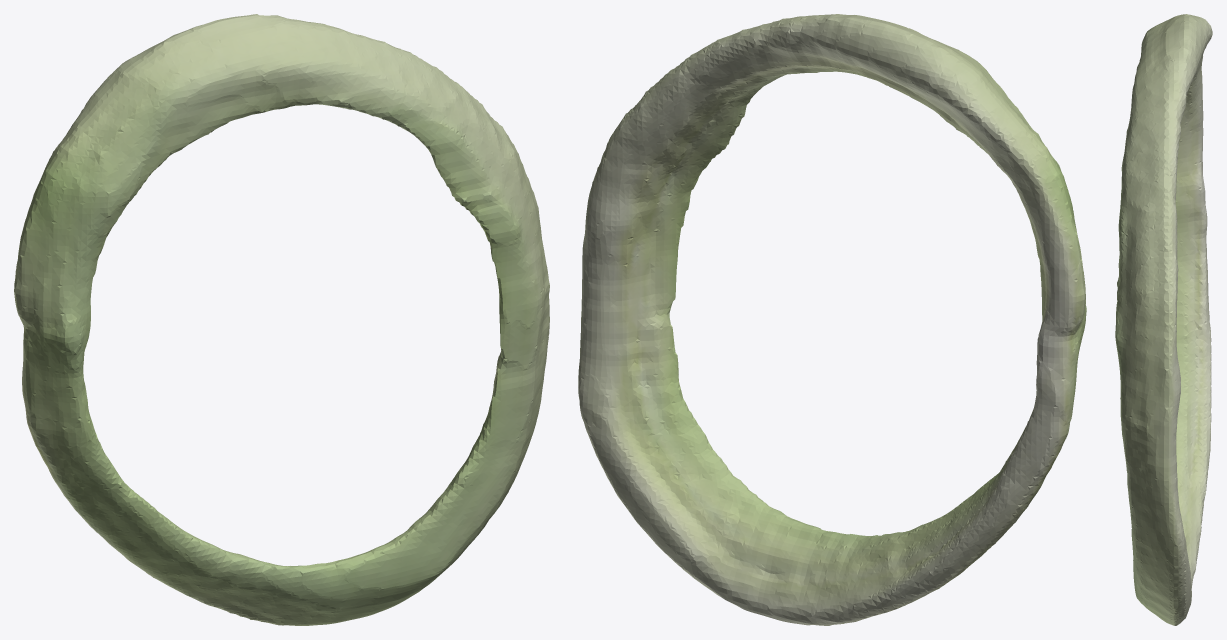
Rendered from lettuce.glb.
3 renders of one model, left to right at view 1: azimuth 30°, elevation 25°; view 2: azimuth 150°, elevation 25°; view 3: azimuth 270°, elevation 25°, orthographic. The views are drawn at different scales.
Visible parts, largest first — view 1: geometry_0; view 2: geometry_0; view 3: geometry_0.
Boxes of the visible parts, x1,y1,x2,y2 form: geometry_0: [14, 14, 549, 625]; geometry_0: [578, 14, 1086, 625]; geometry_0: [1115, 14, 1212, 625].
Bounding box in the file's own units: 1.66 × 1.92 × 0.3203.
